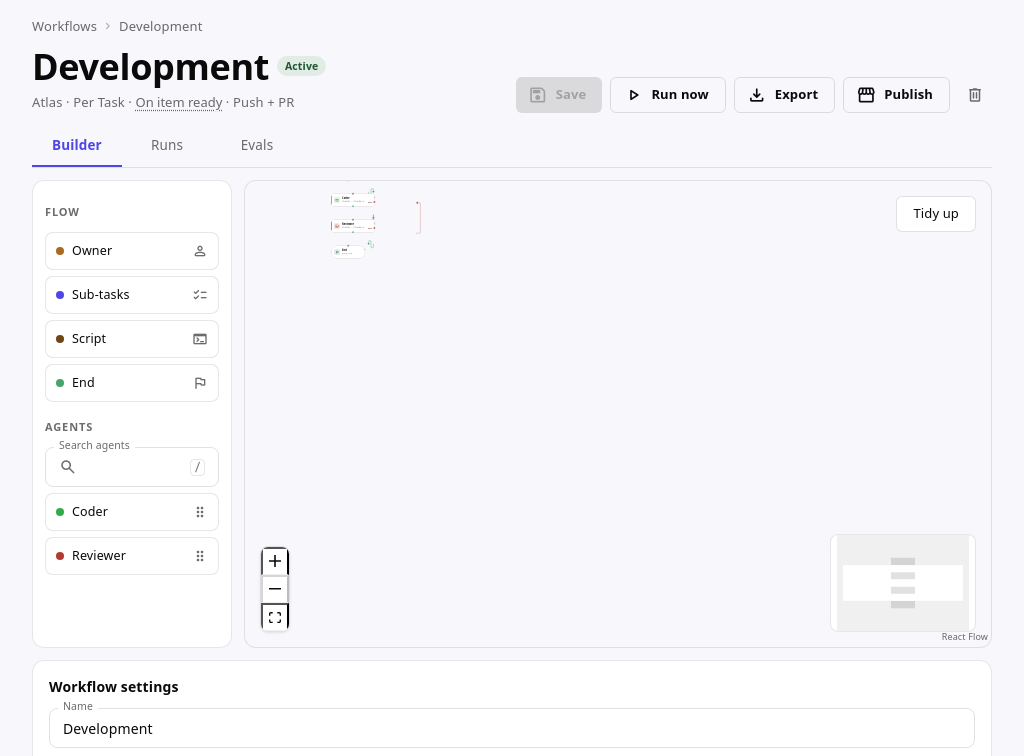
it: WorkflowBuilder › closes the confirmation and stays put when the delete fails
Check: the element with test id "workflow-canvas" is shown, box 244,180 -> 992,648
Click the button named "Delete workflow" at coordinates (975, 95), box 958,78 -> 992,112
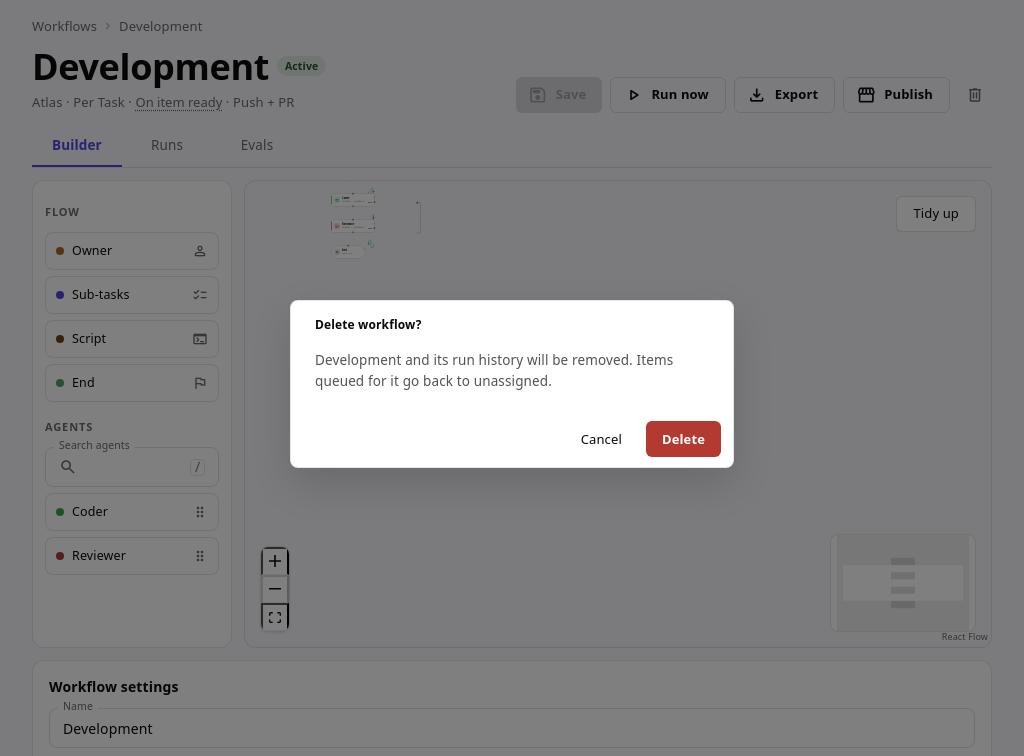
Click the button "Delete" at coordinates (683, 439), box 646,421 -> 721,457
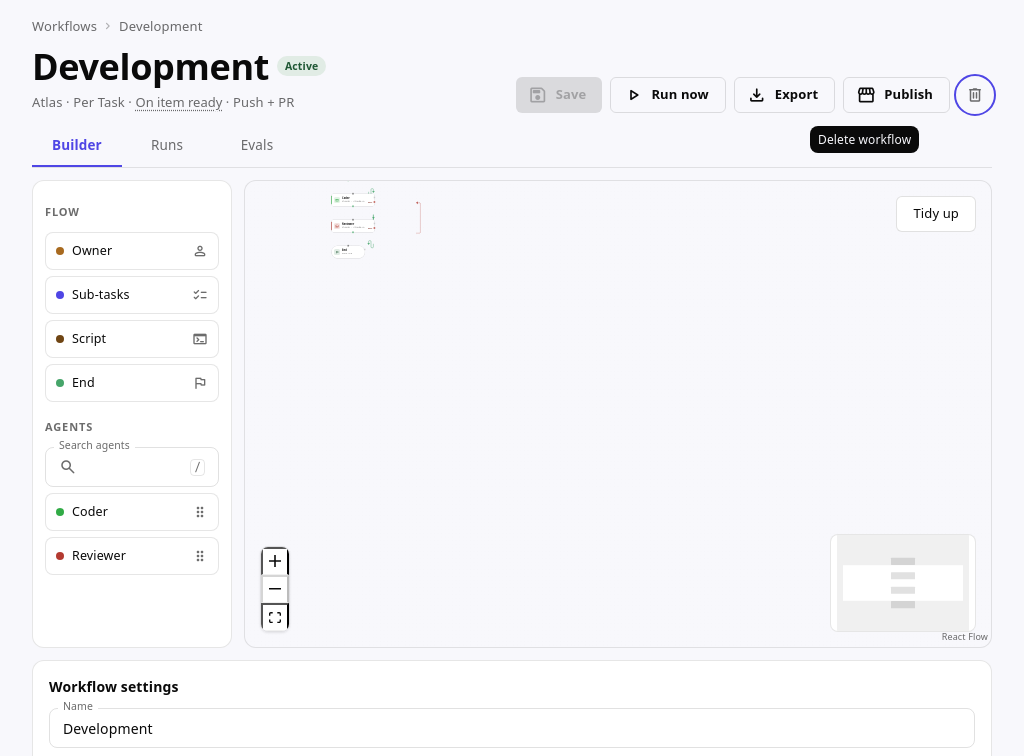
Check: the element with test id "workflow-canvas" is shown, box 244,180 -> 992,648
Check: the dialog is gone
